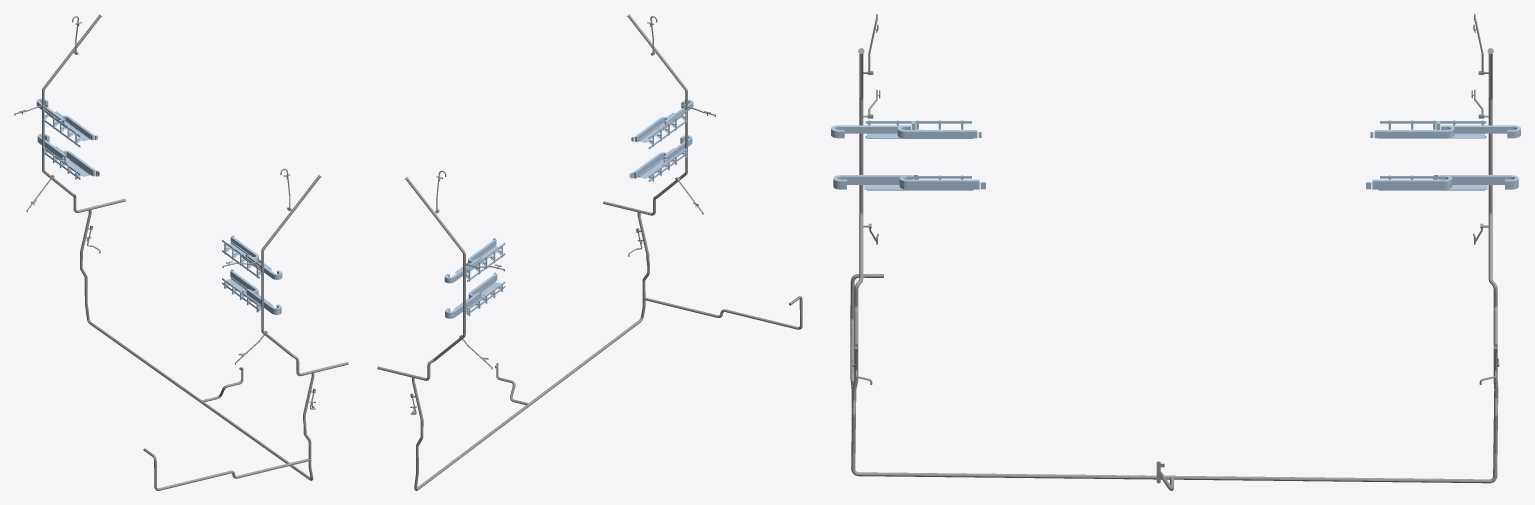
File: Serv-Muon-SW-cut2.glb
3 views of the same model, side by side, from view 1: azimuth 30°, elevation 25°; view 2: azimuth 150°, elevation 25°; view 3: azimuth 270°, elevation 25° (orthographic). The views are drawn at different scales.
Visible parts, largest first — view 1: Cabbles 2-cut2, Cabbles 1-cut2; view 2: Cabbles 2-cut2, Cabbles 1-cut2; view 3: Cabbles 2-cut2, Cabbles 1-cut2.
Boxes of the visible parts, left/top/right/bottom form: Cabbles 2-cut2: left=14, top=14, right=348, bottom=490; Cabbles 1-cut2: left=36, top=98, right=282, bottom=314; Cabbles 2-cut2: left=377, top=14, right=802, bottom=490; Cabbles 1-cut2: left=444, top=99, right=693, bottom=318; Cabbles 2-cut2: left=850, top=14, right=1499, bottom=490; Cabbles 1-cut2: left=831, top=120, right=1520, bottom=190.
Bounding box in the file's own units: 13.05 × 20.28 × 27.88.
